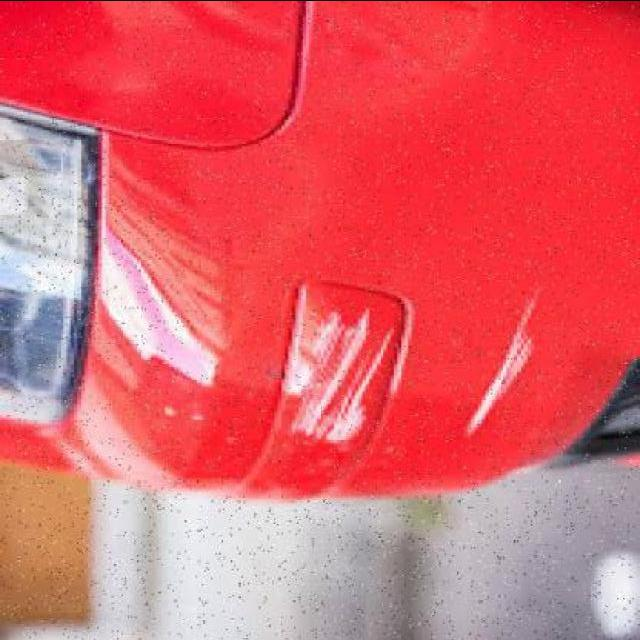front-bumper-dent: (46, 135, 637, 524)
